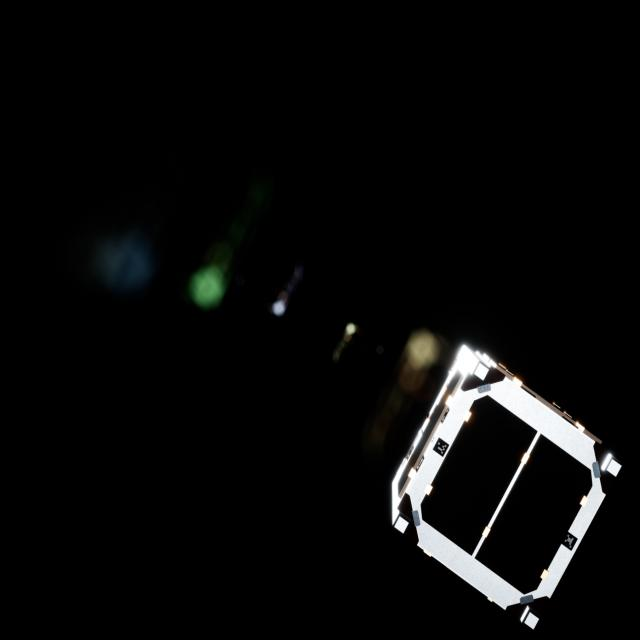medium_debris: (340, 312, 630, 633)
